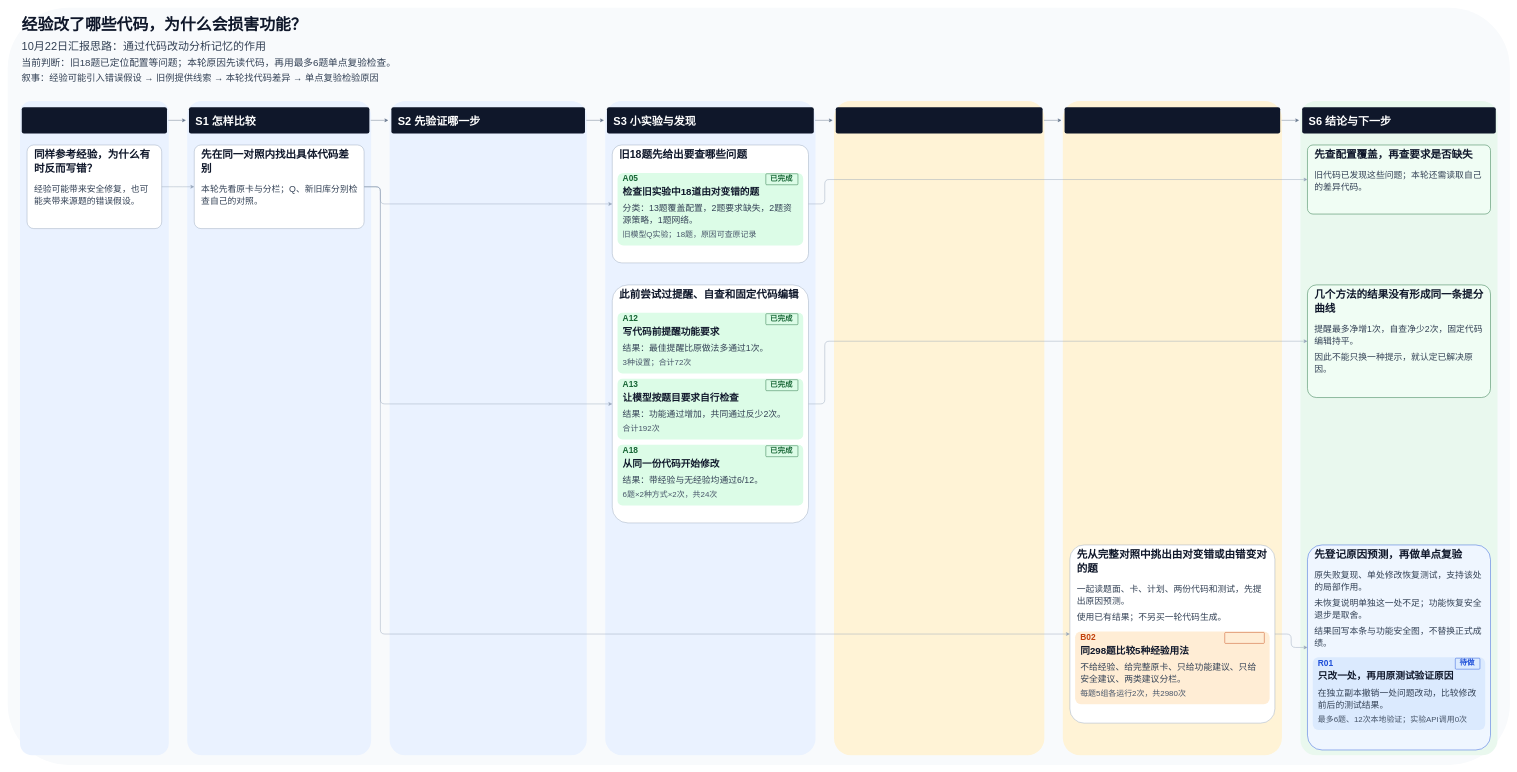
The diagram is 1517 pixels wide and 772 high, and some of its shapes have lost their labels. Each missing label, with the centre of its shape:
"S0 为什么做" goes at (94,120).
"S4 继续学习或建方法" goes at (939,120).
"S5 完成主要比较" goes at (1172,120).
"正在运行" goes at (1244,637).
